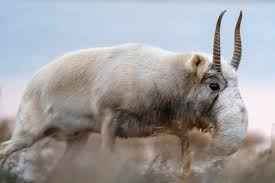saiga: (4, 8, 253, 183)
